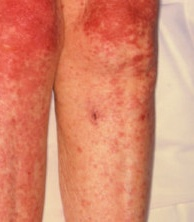SJS-TEN: (0, 0, 162, 222)
